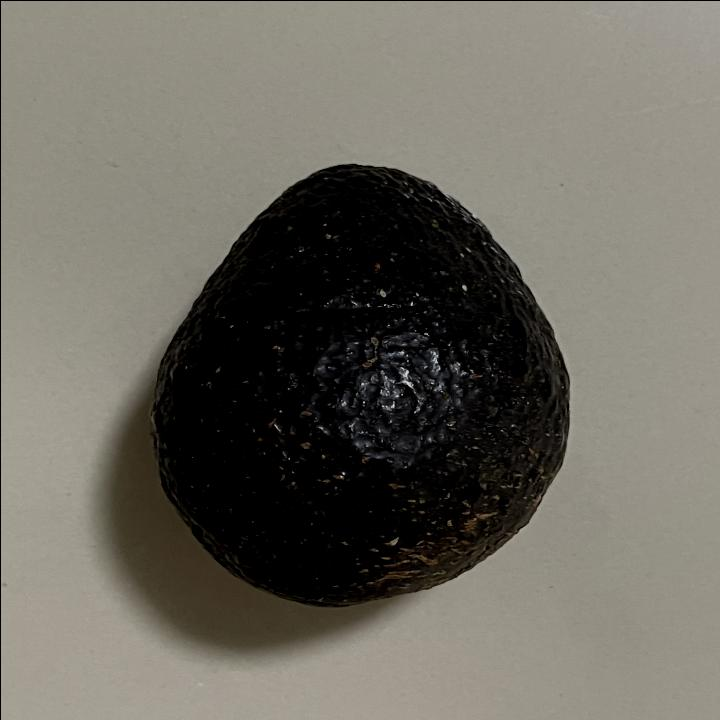Level2: (143, 159, 578, 608)
